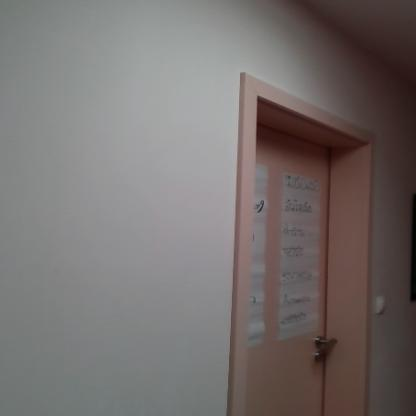door: (249, 121, 329, 416)
lever: (309, 334, 342, 364)
